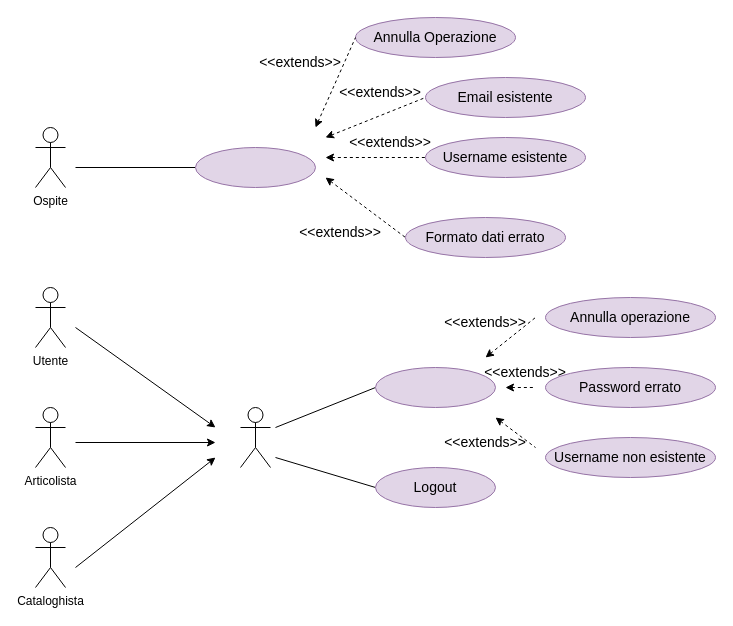
The diagram is 733 pixels wide and 626 high, and some of its shapes have lost their labels. Each missing label, with the centre of its shape:
Login: point (435, 387)
Registrato: point (255, 437)
Registrazione: point (255, 167)
